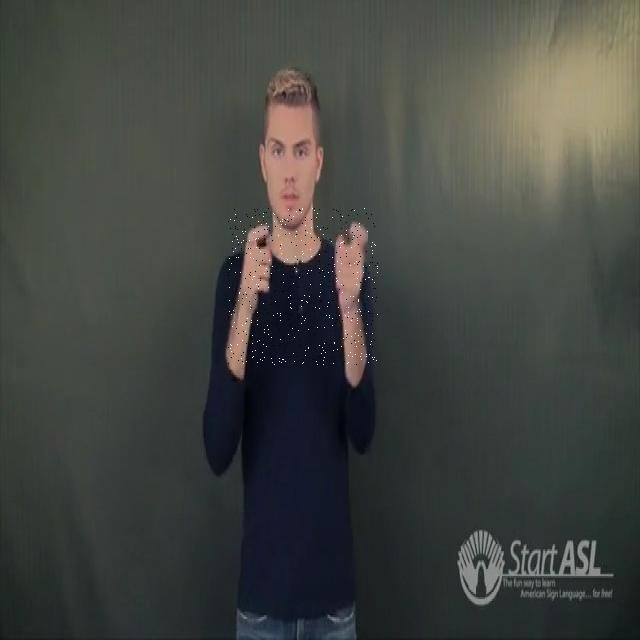manager: (228, 208, 378, 366)
